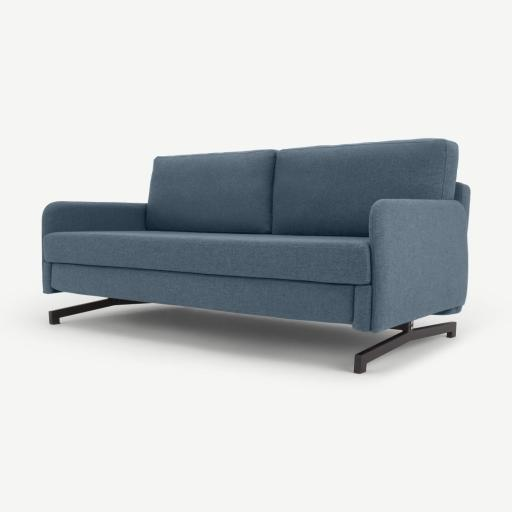back_cushion: (147, 139, 458, 235)
base: (53, 264, 363, 323)
left_arm: (353, 199, 468, 332)
legs: (353, 322, 456, 373), (49, 298, 145, 324)
right_arm: (42, 202, 146, 238), (43, 255, 56, 293)
seat_cushion: (43, 230, 370, 284)
two-seater: (0, 0, 511, 512)
